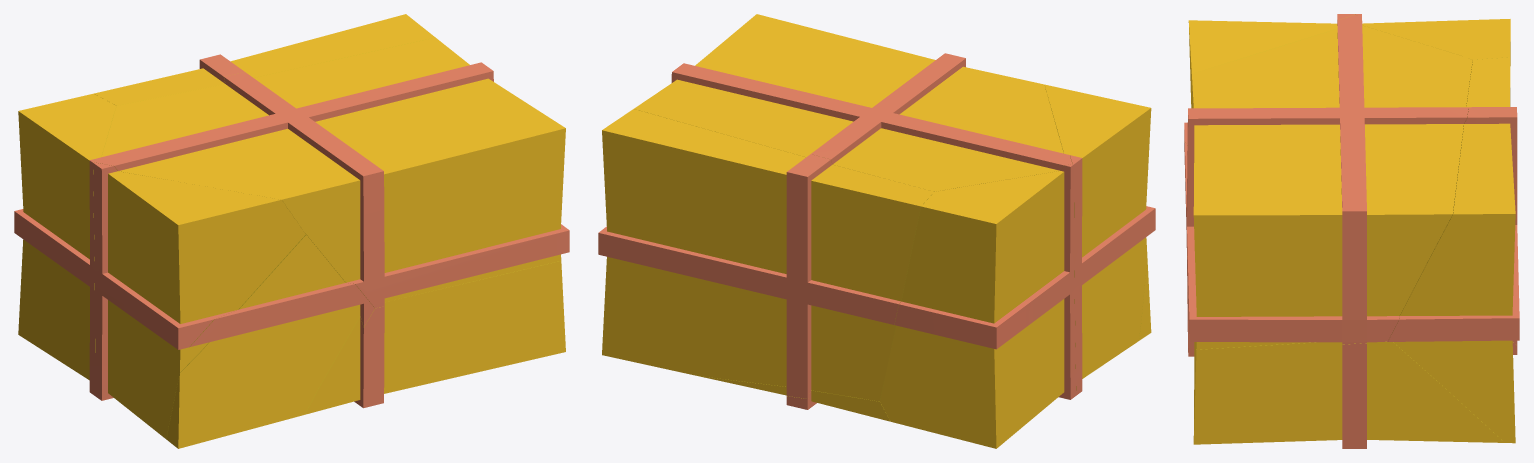
The model's file is Wheat_Cube_DEST.fbx.
3 views of the same model, side by side, from view 1: azimuth 30°, elevation 25°; view 2: azimuth 150°, elevation 25°; view 3: azimuth 270°, elevation 25° (orthographic). The views are drawn at different scales.
Parts seen in each view (by area): view 1: polySurface178_cell.003, polySurface178_cell.005, polySurface178_cell, polySurface178_cell.004, polySurface178_cell.001, polySurface178_cell.002; view 2: polySurface178_cell.002, polySurface178_cell.003, polySurface178_cell.001, polySurface178_cell.005, polySurface178_cell.004; view 3: polySurface178_cell.003, polySurface178_cell.002, polySurface178_cell.004, polySurface178_cell.005, polySurface178_cell.001.
Part boxes in pixels (<box>): polySurface178_cell.003: <box>94,37,569,308</box>; polySurface178_cell.005: <box>93,162,305,439</box>; polySurface178_cell: <box>166,235,374,448</box>; polySurface178_cell.004: <box>305,261,565,414</box>; polySurface178_cell.001: <box>14,93,116,395</box>; polySurface178_cell.002: <box>94,14,435,105</box>; polySurface178_cell.002: <box>598,109,933,401</box>; polySurface178_cell.003: <box>634,14,1072,191</box>; polySurface178_cell.001: <box>880,164,1076,448</box>; polySurface178_cell.005: <box>1044,84,1155,395</box>; polySurface178_cell.004: <box>698,376,890,421</box>; polySurface178_cell.003: <box>1186,15,1472,349</box>; polySurface178_cell.002: <box>1388,57,1519,443</box>; polySurface178_cell.004: <box>1187,257,1517,448</box>; polySurface178_cell.005: <box>1184,14,1354,149</box>; polySurface178_cell.001: <box>1355,14,1510,65</box>.
Bounding box in the file's own units: 658 × 367 × 469.
